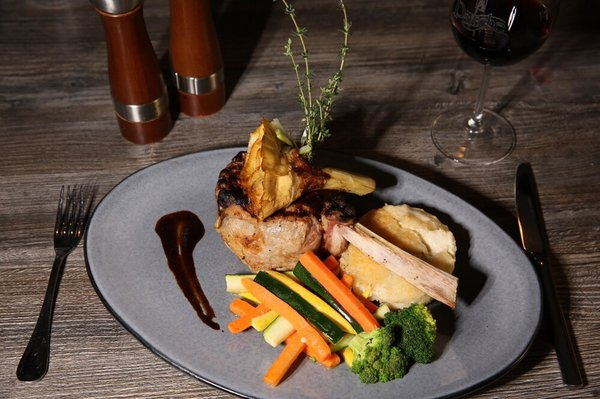curry: (341, 303, 437, 385)
sandwich: (515, 161, 584, 387)
